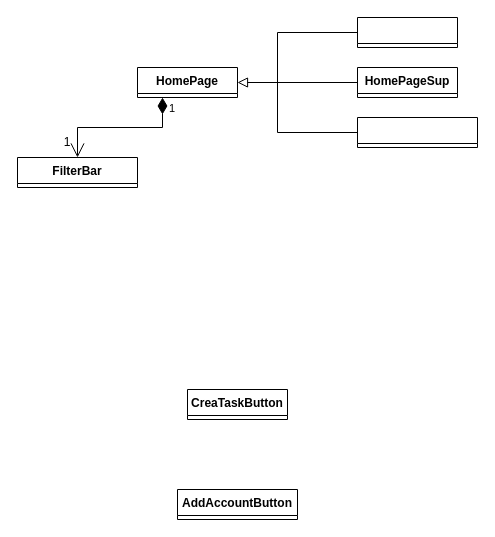
Some shapes in this 495 by 537 pixel diagram are drawn without their labels. Each missing label, with the box of its shape:
HomePageDip: (356, 116, 478, 148)
HomePageGest: (356, 16, 458, 48)
